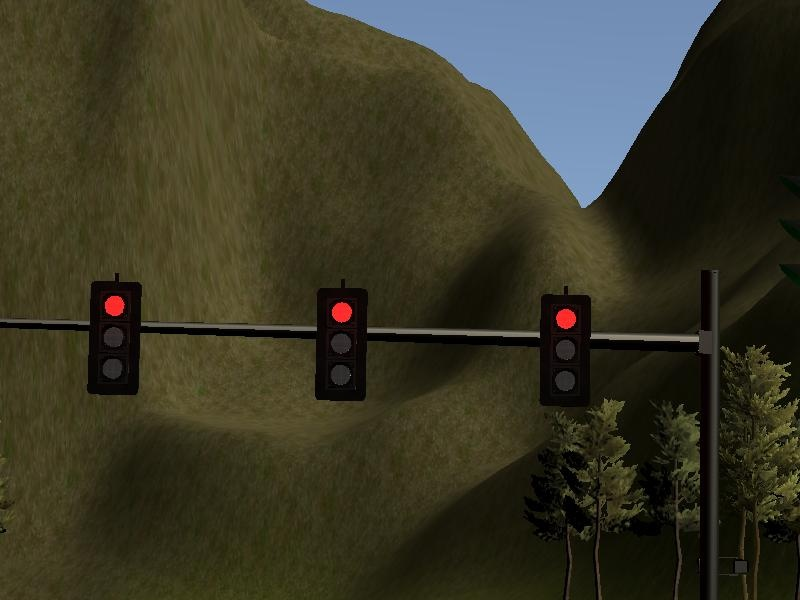RED: (87, 281, 141, 393), (315, 286, 369, 398), (538, 293, 592, 405)
